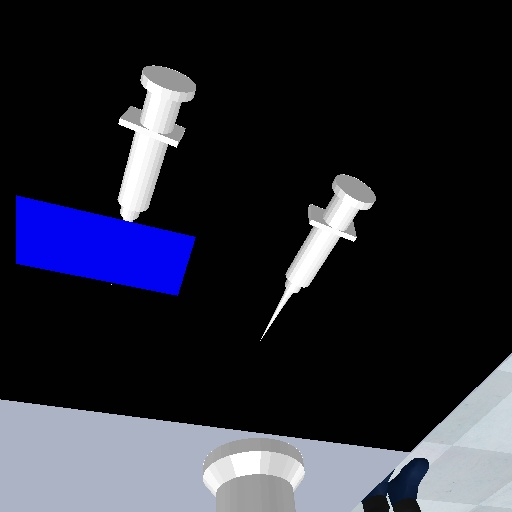jeringuilla: (256, 169, 379, 350), (111, 62, 200, 223)
